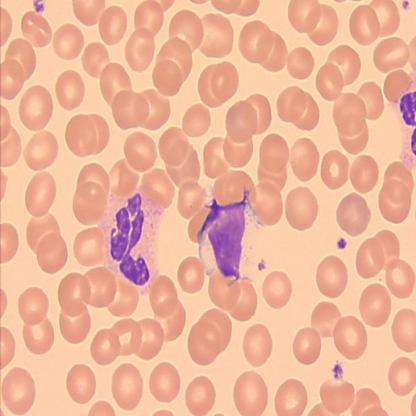Atypical lymphocyte: (97, 189, 166, 293), (196, 189, 267, 284)
